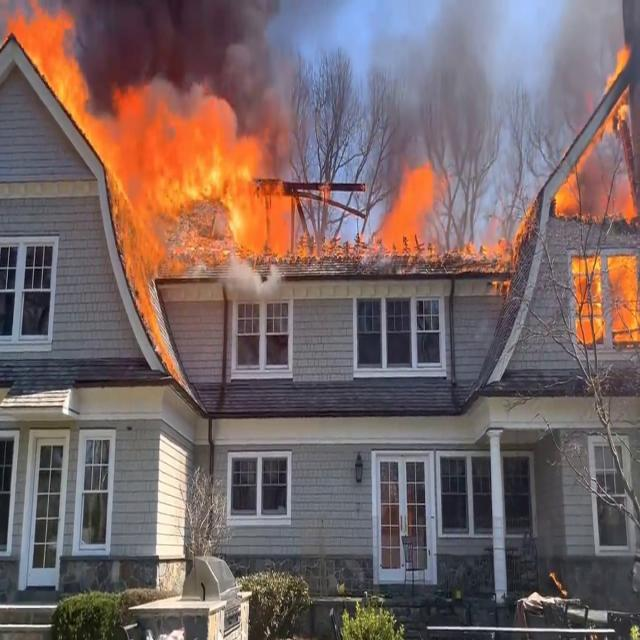Fire: (99, 78, 312, 276), (371, 155, 498, 265), (3, 0, 92, 125), (567, 236, 640, 345)
Smoke: (366, 0, 518, 230), (75, 0, 308, 105), (532, 0, 640, 161)
